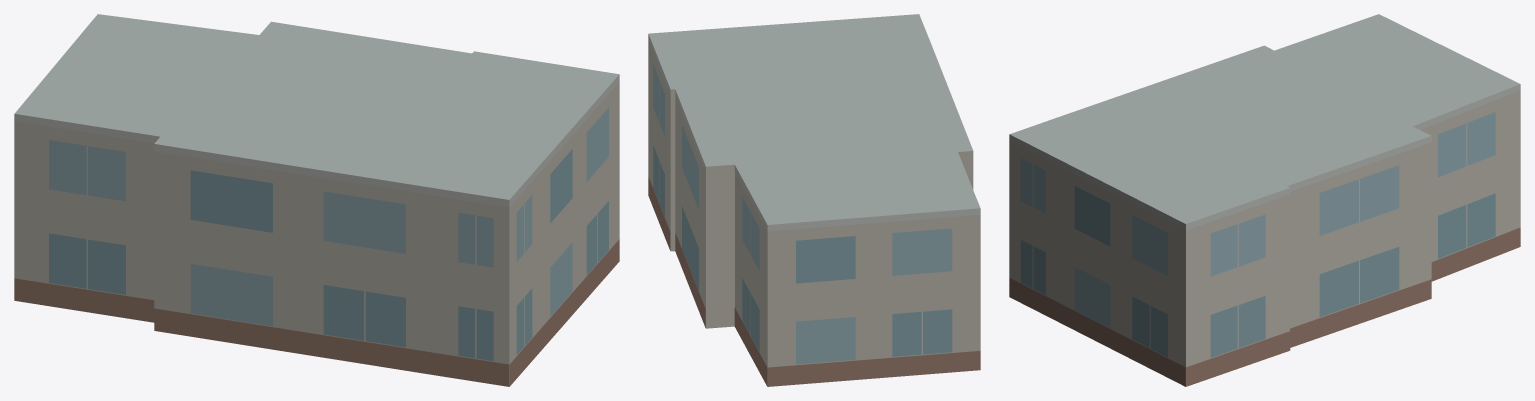
File: survey-upis-32773245.glb
The picture shows the model from 3 angles, left to right: view 1: azimuth 30°, elevation 25°; view 2: azimuth 150°, elevation 25°; view 3: azimuth 270°, elevation 25°; orthographic projection. The views are drawn at different scales.
Parts seen in each view (by area): view 1: survey-upis-32773245.tmp; view 2: survey-upis-32773245.tmp; view 3: survey-upis-32773245.tmp.
Boxes of the visible parts, left/top/right/bottom form: survey-upis-32773245.tmp: left=14, top=14, right=619, bottom=386; survey-upis-32773245.tmp: left=648, top=14, right=980, bottom=386; survey-upis-32773245.tmp: left=1009, top=14, right=1520, bottom=386.
Size of the model in its own units: 16.89 by 6.1 by 17.36.
